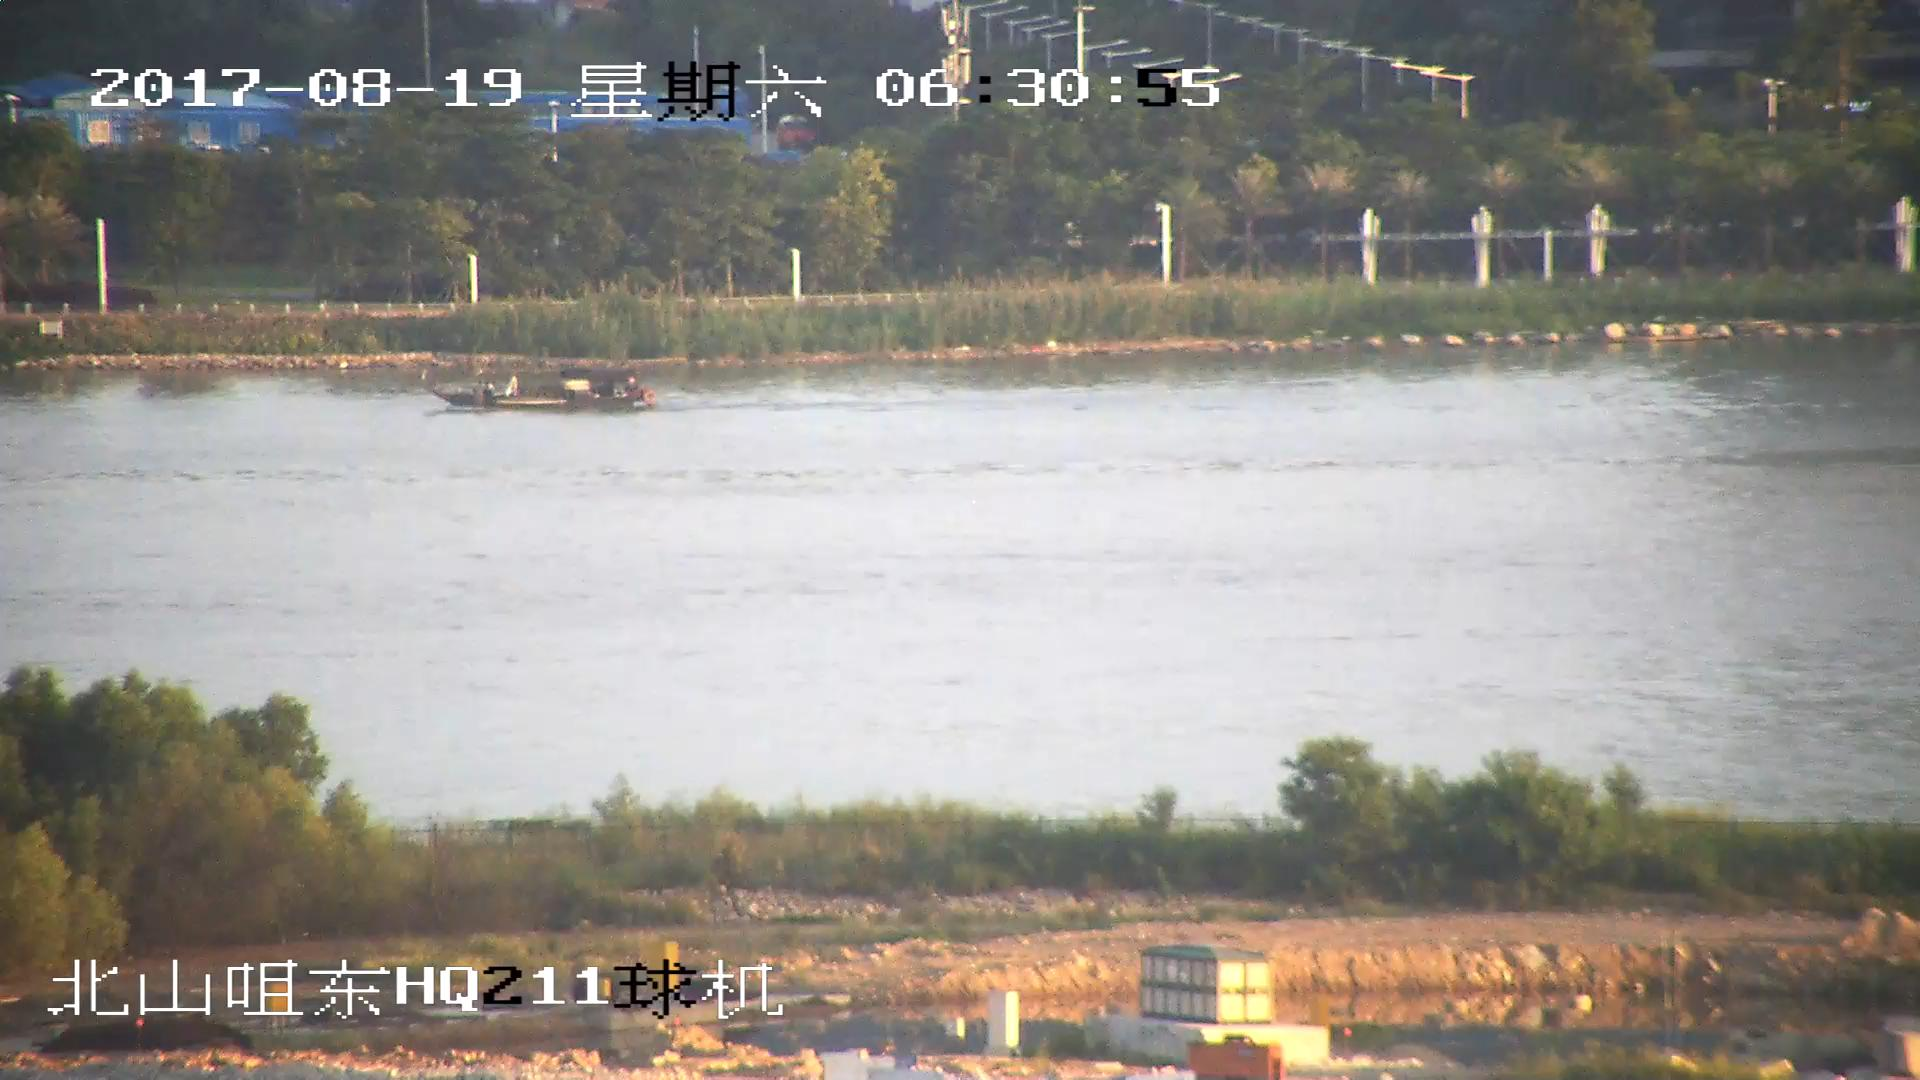fishing boat: (439, 371, 651, 414)
